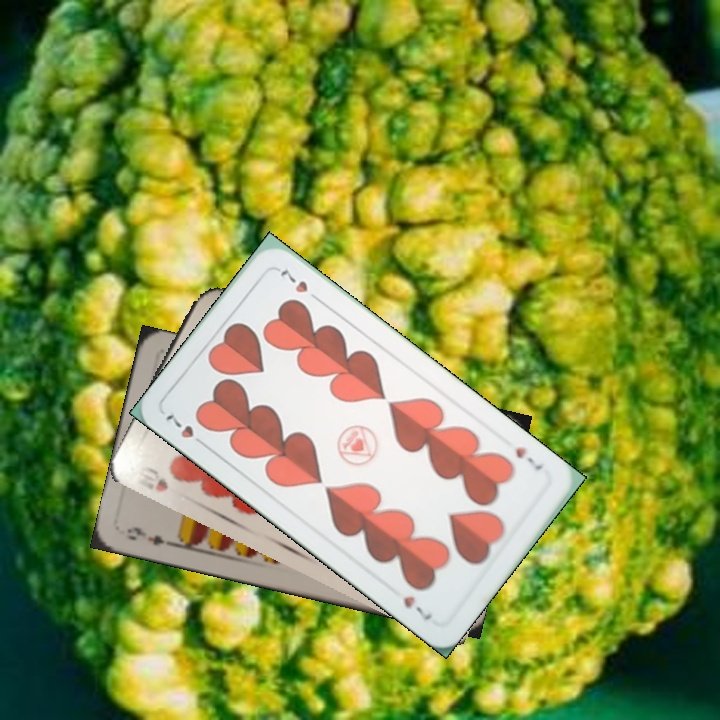E9: (123, 522, 177, 549)
H10: (133, 462, 171, 495)
H7: (161, 408, 210, 450), (511, 442, 545, 474)
